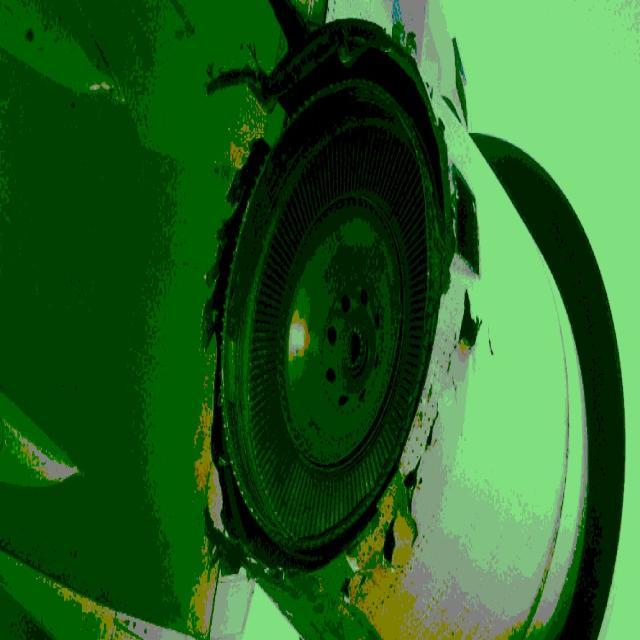crack: (337, 289, 487, 612)
